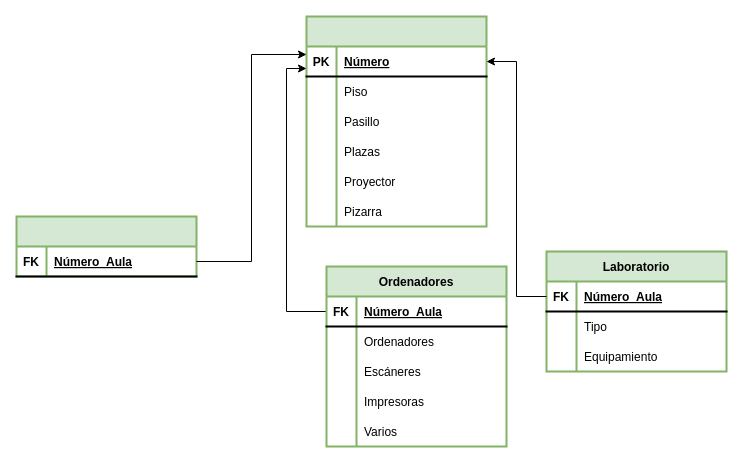
Image size: 743x463. Some labels were removed from this diagram. Each missing label, with the box of its shape:
Aula: (305, 15, 487, 227)
Común: (15, 215, 197, 277)
